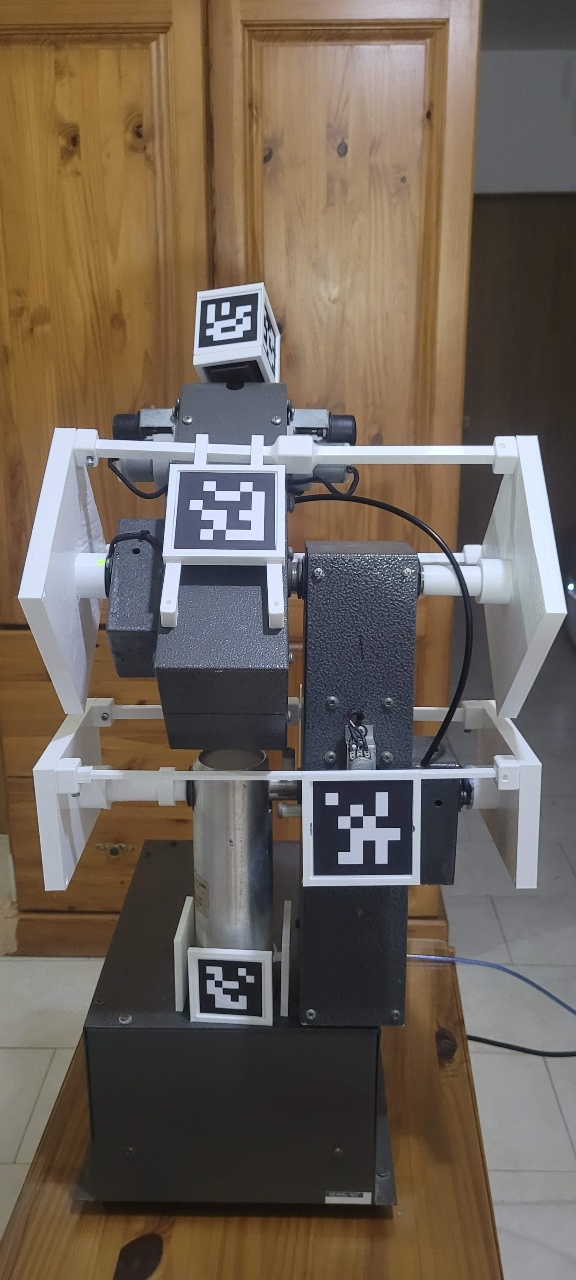Robot: (91, 378, 544, 1069)
